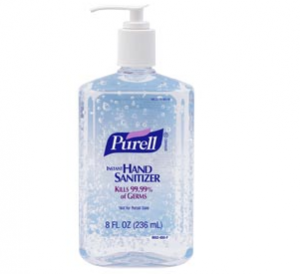Sanitizer: (74, 1, 198, 270)
